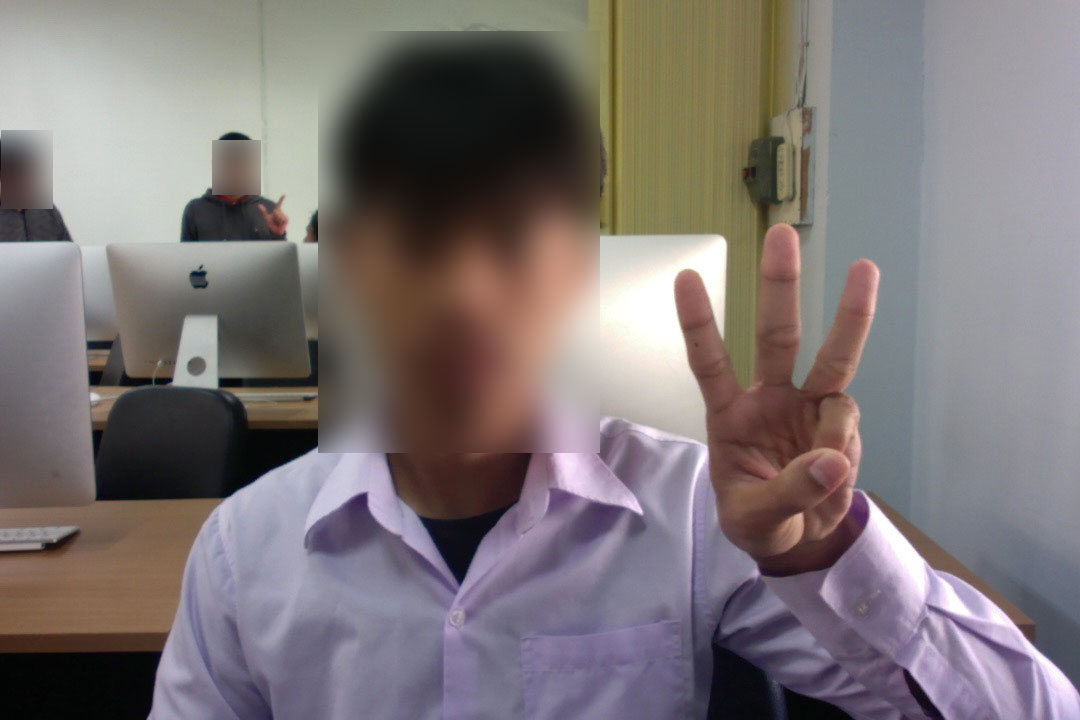wor: (658, 209, 907, 574)
